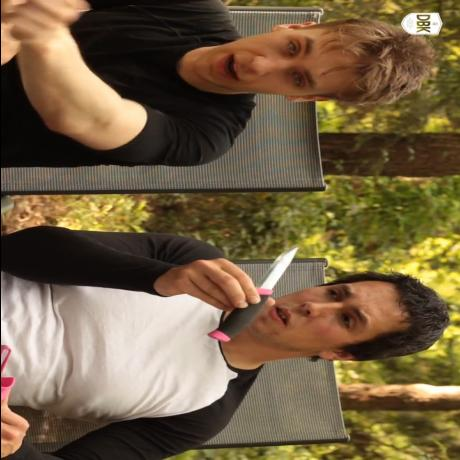1: (0, 225, 449, 460), (0, 0, 441, 170)
weapon: (249, 246, 300, 294)
